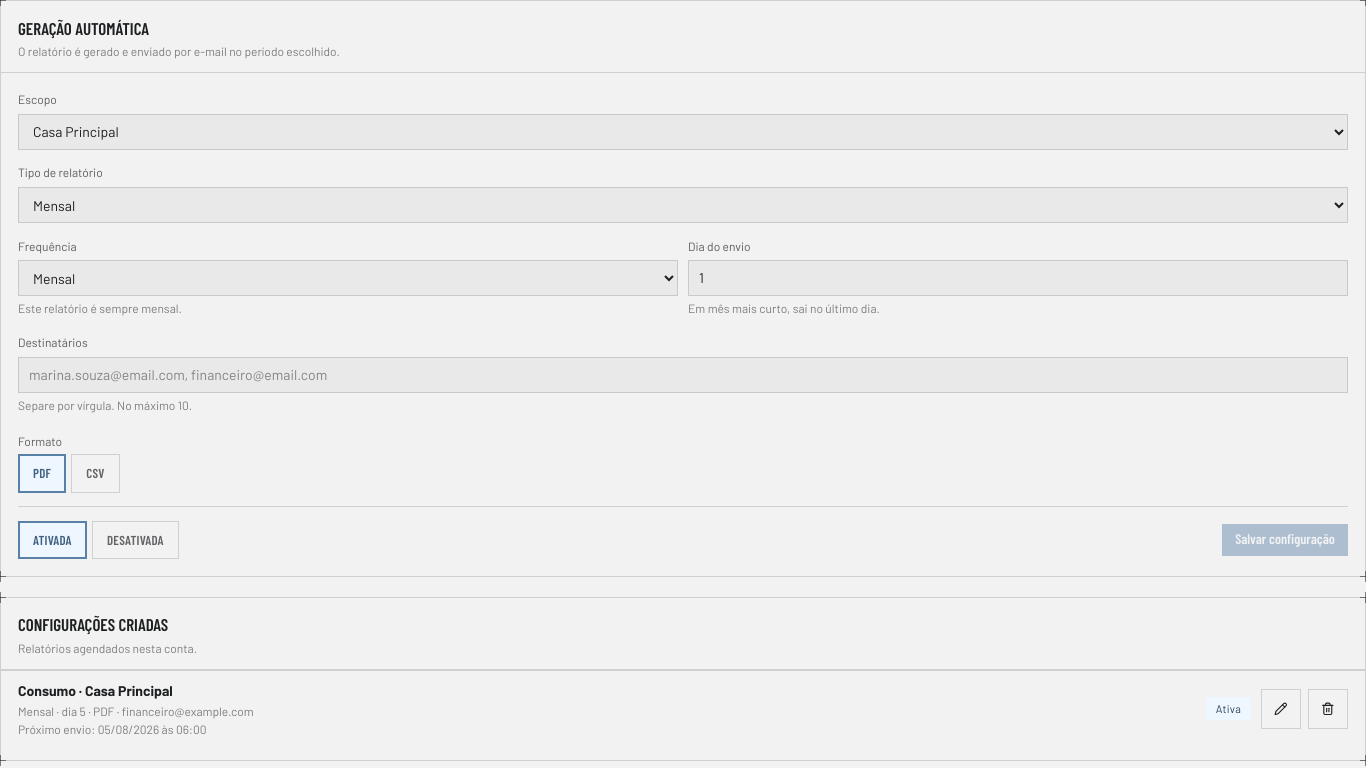
Test case: ReportSchedulesPage — lista › edita numa janela preenchida com a configuração e salva o corpo completo
Click the button named "Editar" at [1281, 709], box [1261, 689, 1301, 729]
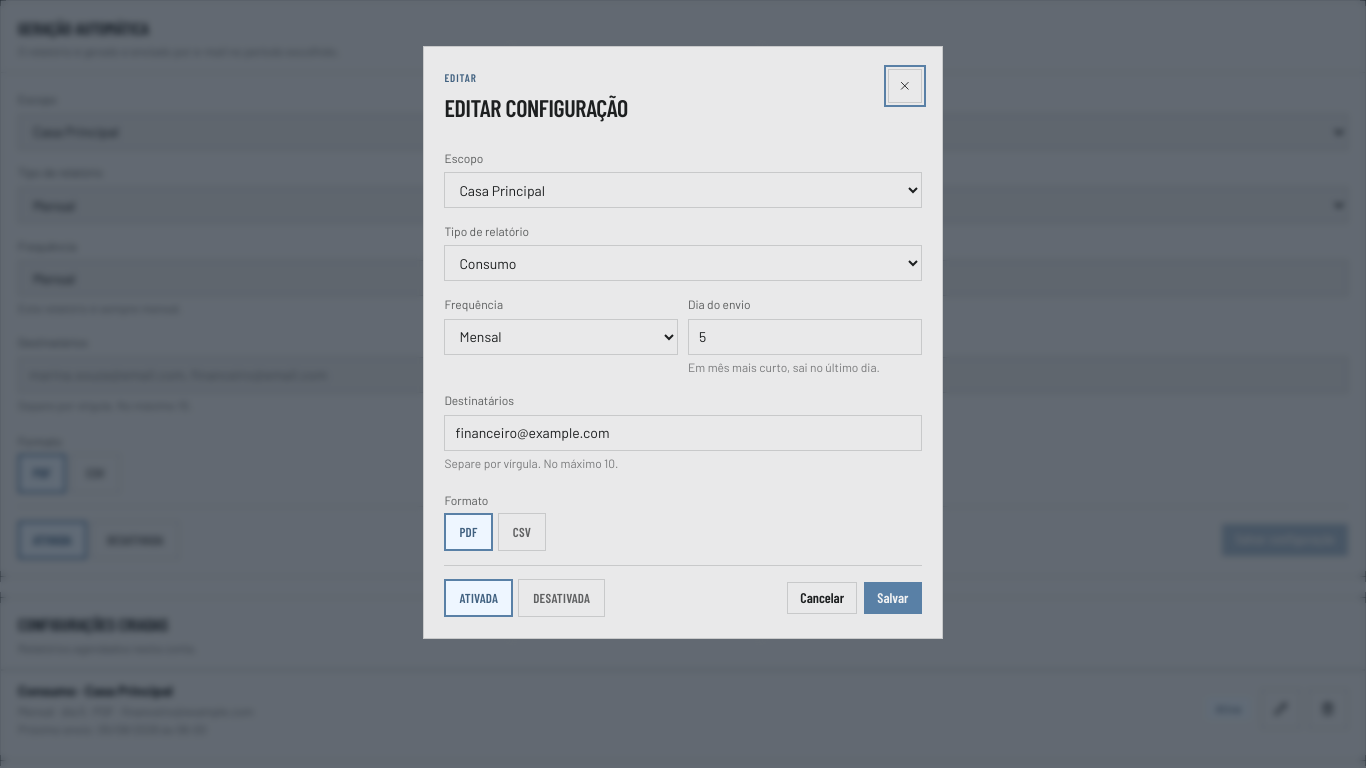
Expected: the field labelled "Destinatários" holds "financeiro@example.com", [444, 415, 922, 451]
Expected: the dropdown labelled "Tipo de relatório" shows "Consumo", [444, 245, 922, 281]
Select "Semanal" in the dropdown labelled "Frequência" at [561, 337], box [444, 319, 678, 355]
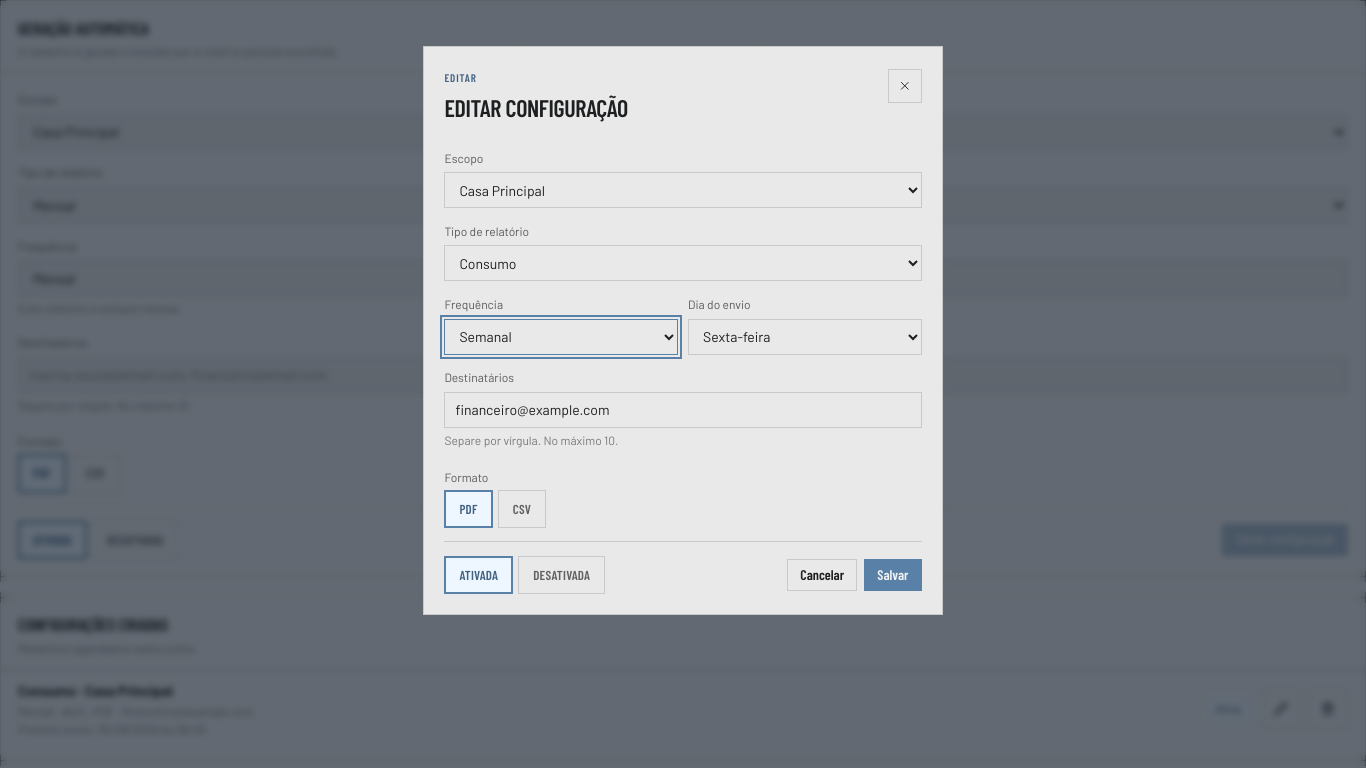
Select "Quarta-feira" in the dropdown labelled "Dia do envio" at [805, 337], box [688, 319, 922, 355]
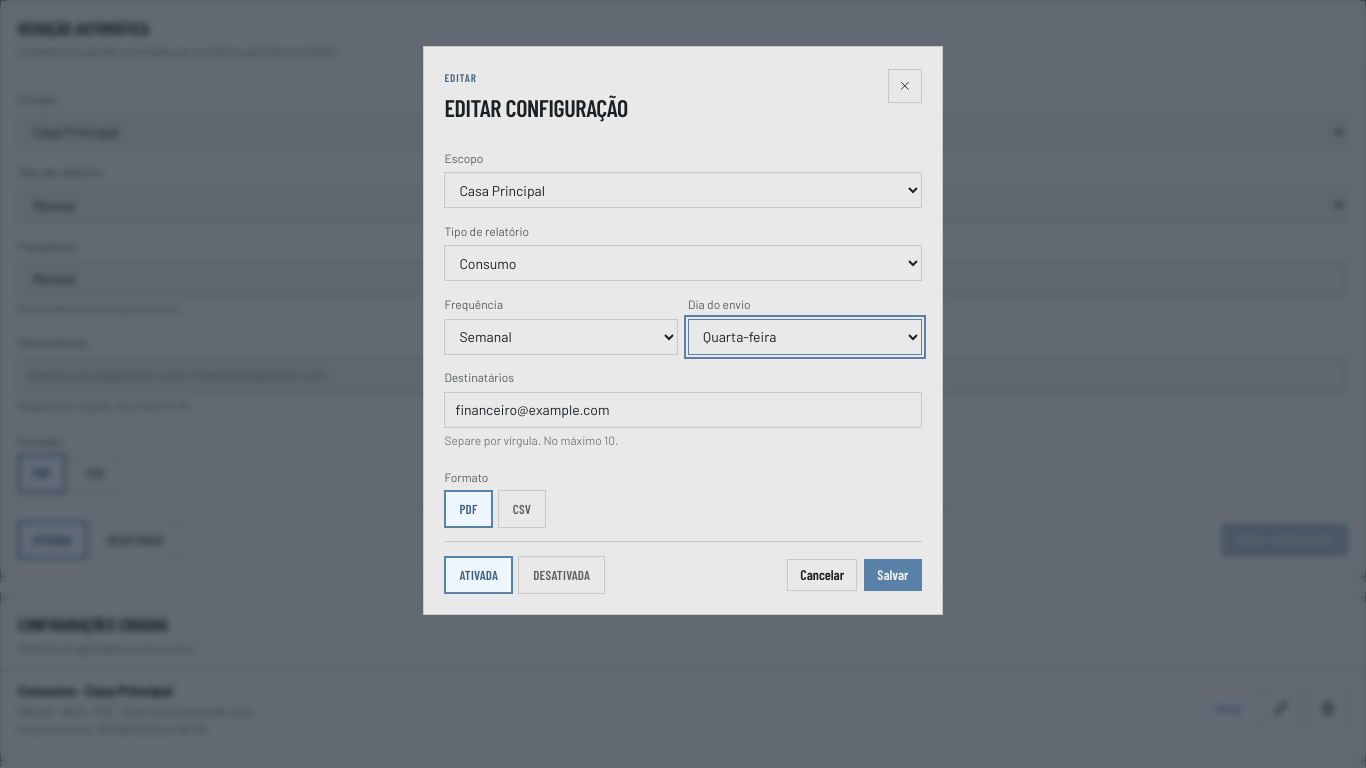
Click the button "Salvar" at [893, 575], box [864, 559, 922, 591]
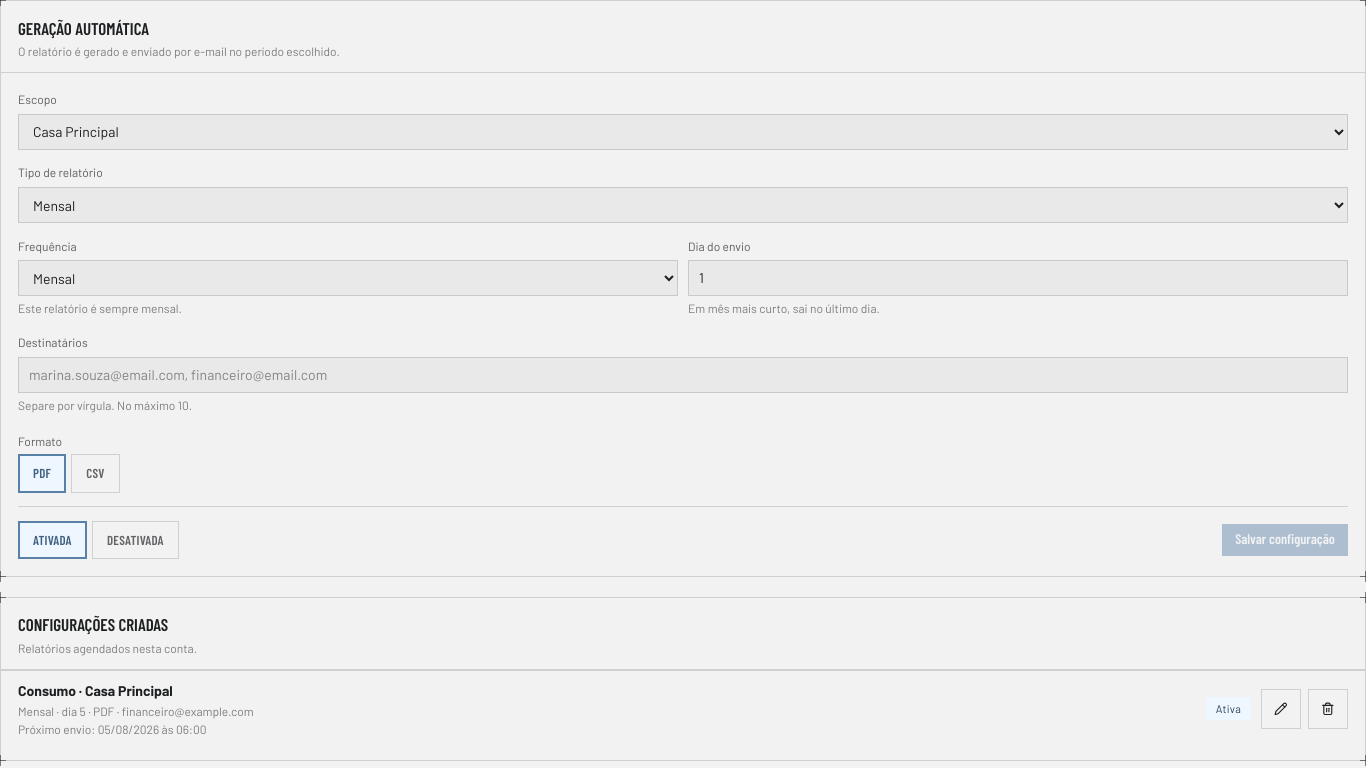
Expected: the dialog is gone
